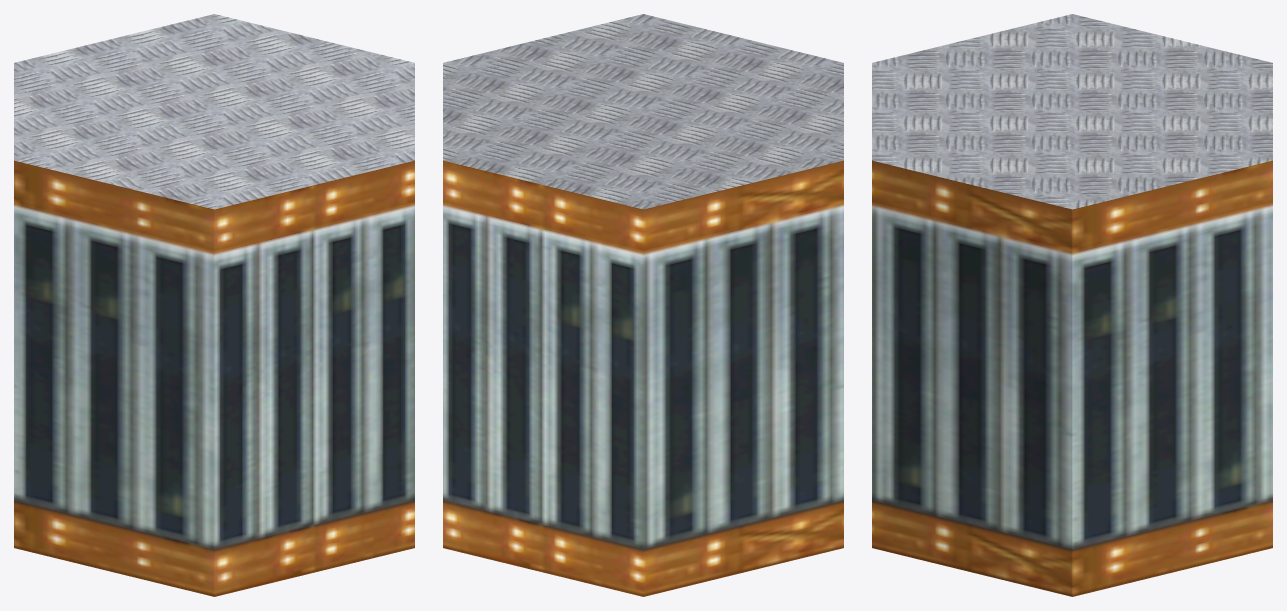
3 renders of one model, left to right at view 1: azimuth 30°, elevation 25°; view 2: azimuth 150°, elevation 25°; view 3: azimuth 270°, elevation 25°, orthographic.
Visible parts, largest first — view 1: Cylinder04; view 2: Cylinder04; view 3: Cylinder04.
Part boxes in pixels (left/top/right/bottom): Cylinder04: left=14, top=14, right=414, bottom=596; Cylinder04: left=443, top=14, right=843, bottom=596; Cylinder04: left=872, top=14, right=1272, bottom=596.
Bounding box in the file's own units: 705 × 652 × 611.
Materials: 2 (2 with a texture image).
